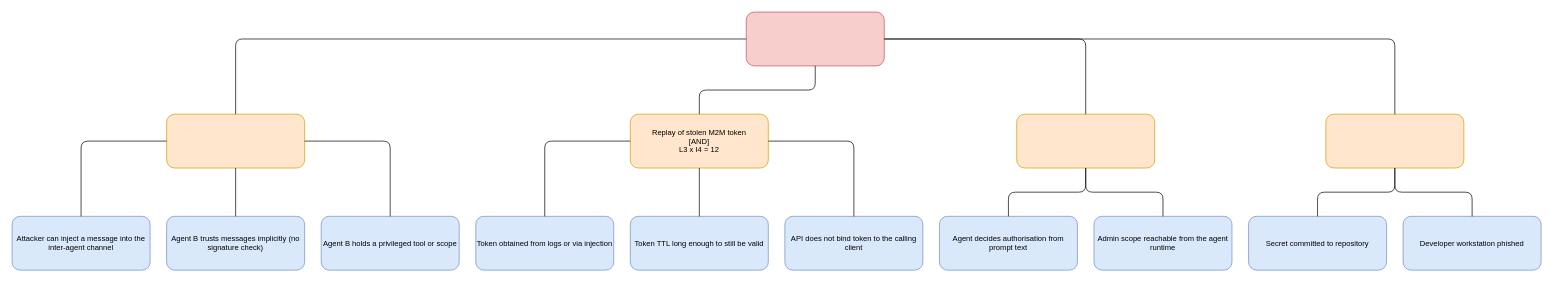
Image size: 1553x282. Some labels were removed from this diagram. Each missing label, with the box of its shape:
GOAL: Spoof agent identity to gain elevated API scope [OR] L4 x I5 = 20: (746, 11, 884, 66)
M2M client secret compromised [OR] L3 x I5 = 15: (1325, 114, 1464, 168)
Role elevation from user to admin by prompt engineering [AND] L3 x I5 = 15: (1016, 114, 1155, 168)
Spoofed orchestrator message to Agent B [AND] L4 x I5 = 20: (166, 114, 305, 168)
